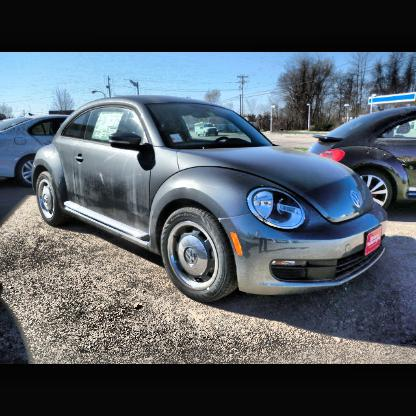Volkswagen Beetle Hatchback 2012: (34, 97, 387, 300)
